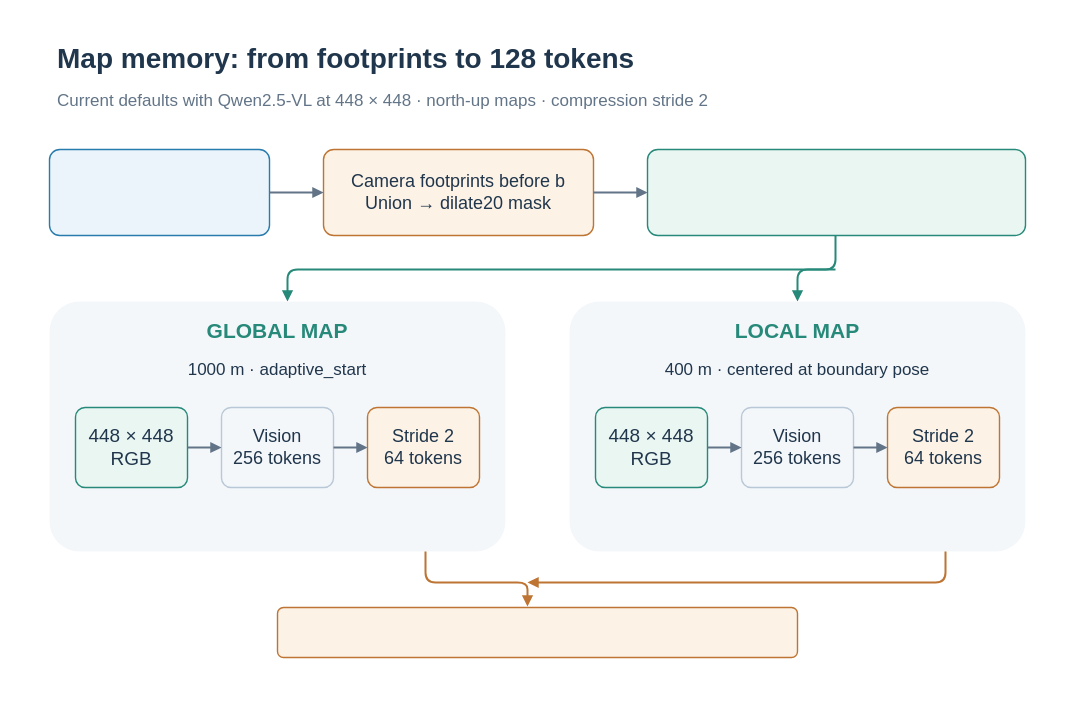
Some shapes in this 1074 by 704 pixel diagram are drawn without their labels. Here are the shapes that lost their labels. From the top down, the centre of each, then its label:
At [159,192]: "Episode start + actions Integrate geographic poses".
At [836,192]: "Read orthophoto crops Mask pixels + draw trajectory / markers".
At [537,632]: "Global 64 + local 64 → memory block: 128 tokens".
